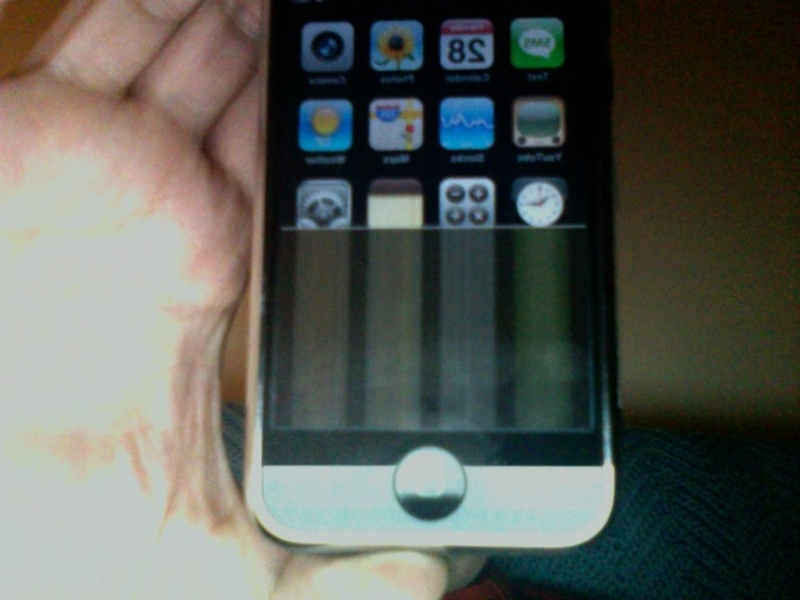cellphone: (225, 1, 634, 540)
